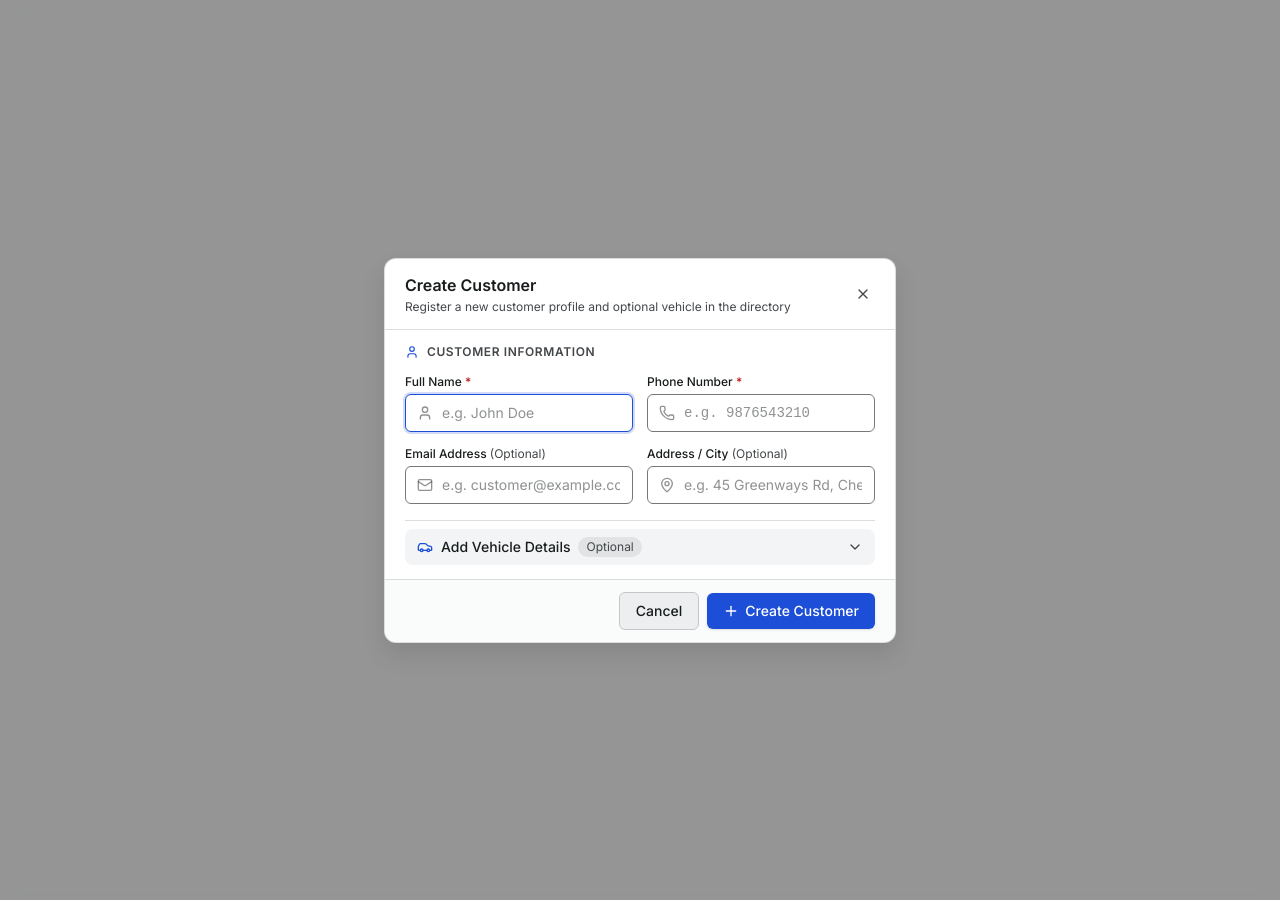
CreateCustomerModal Component › validates customer name and 10-digit phone number
// Submit with empty name
Click the button "Create Customer".
click(791, 610)  # box [707,592,875,628]
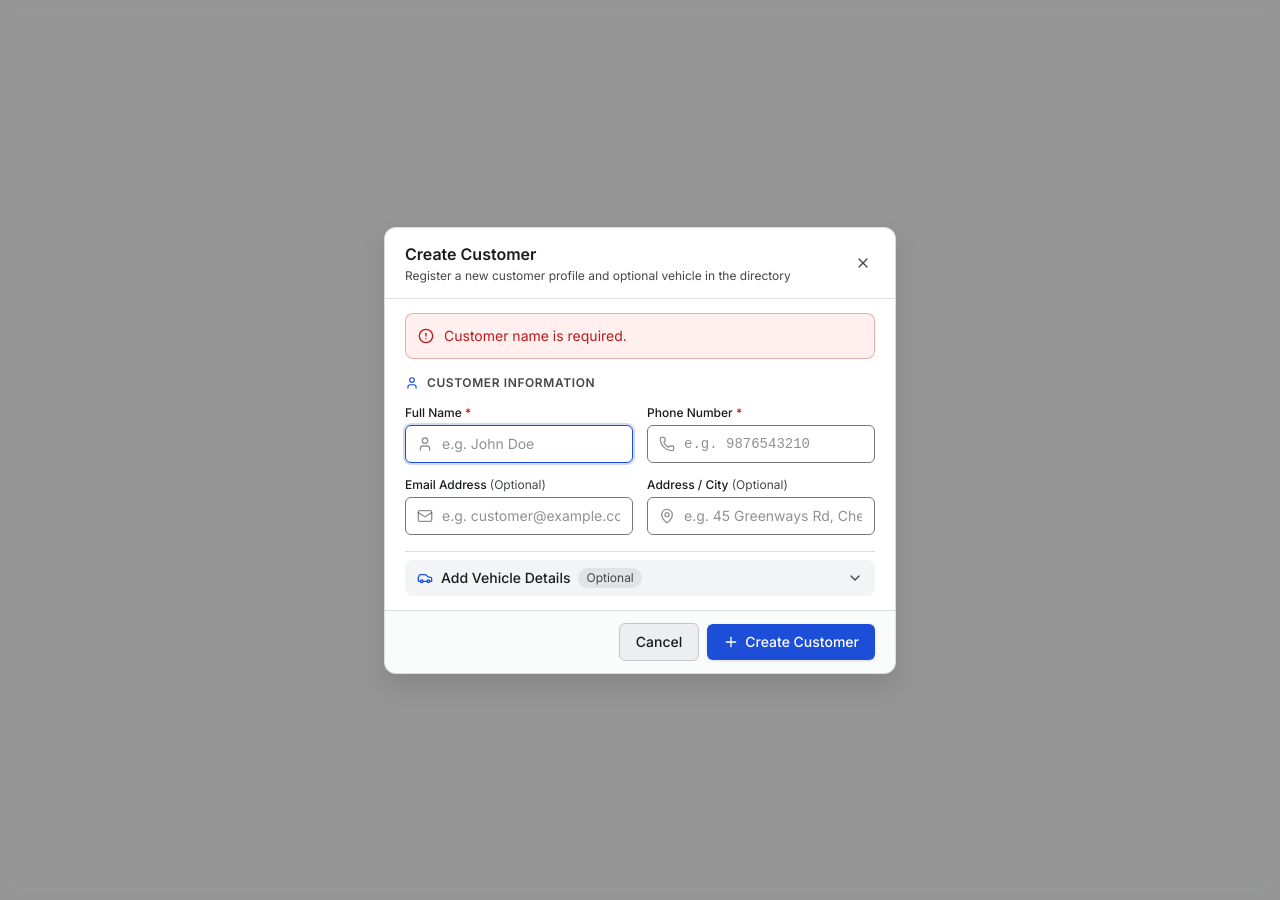
Now the text "Customer name is required." is shown, box [444,326,627,346]
// Submit with short phone number
Type "Jane Doe" into the field with placeholder "e.g. John Doe".
click(519, 444); type("Jane Doe")  # box [405,424,633,462]
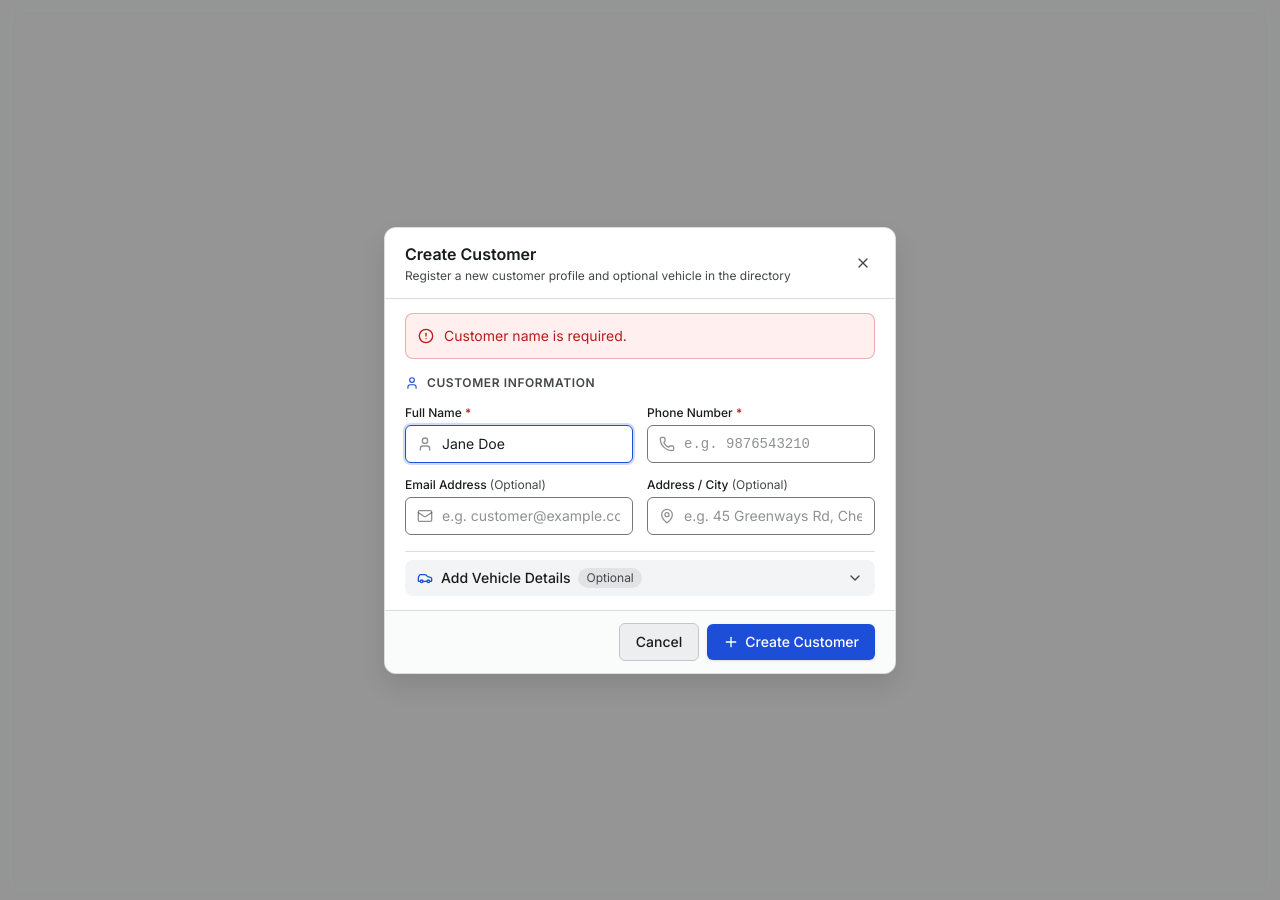
Type "9876" into the field with placeholder "e.g. 9876543210".
click(761, 444); type("9876")  # box [647,424,875,462]
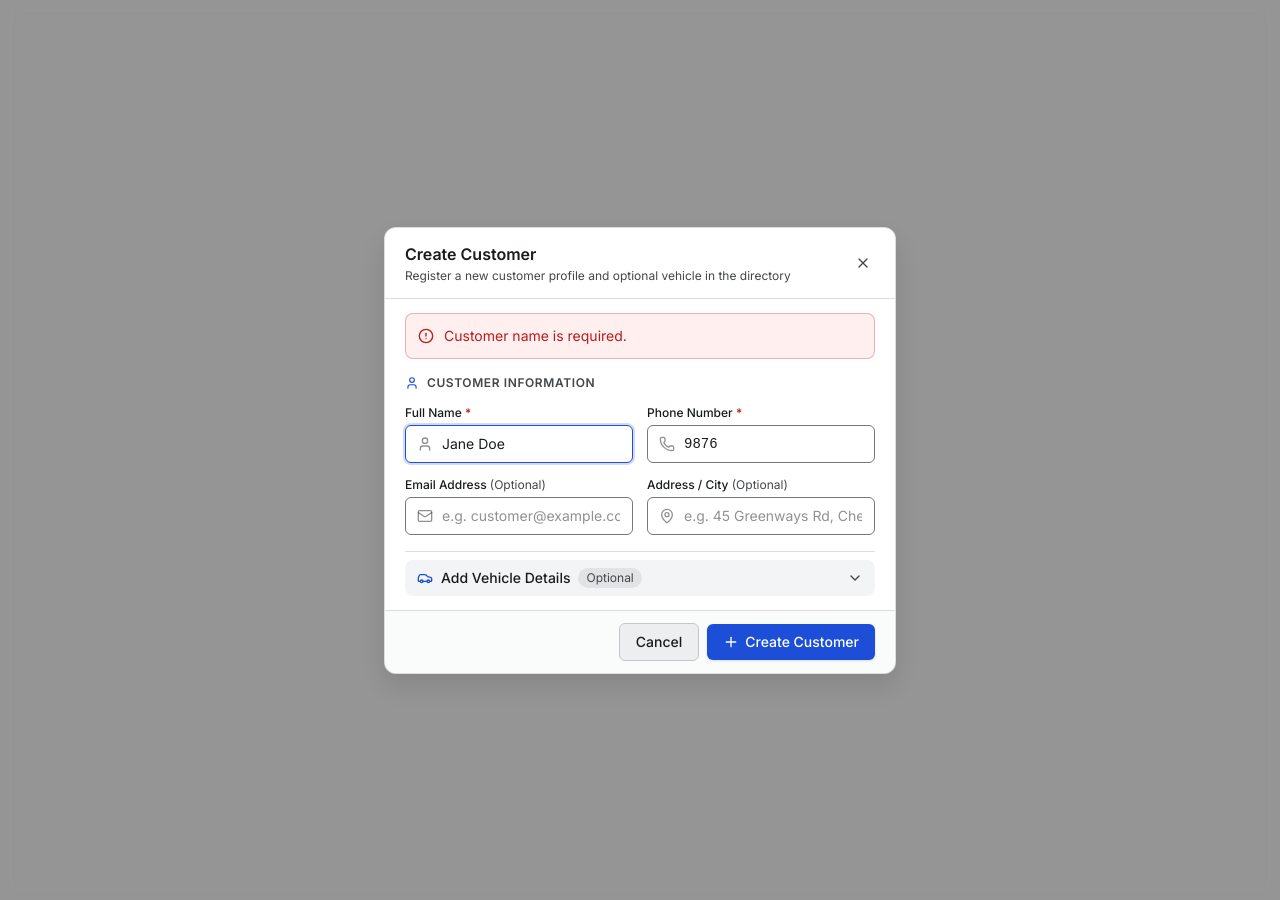
Click the button "Create Customer".
click(791, 642)  # box [707,624,875,660]
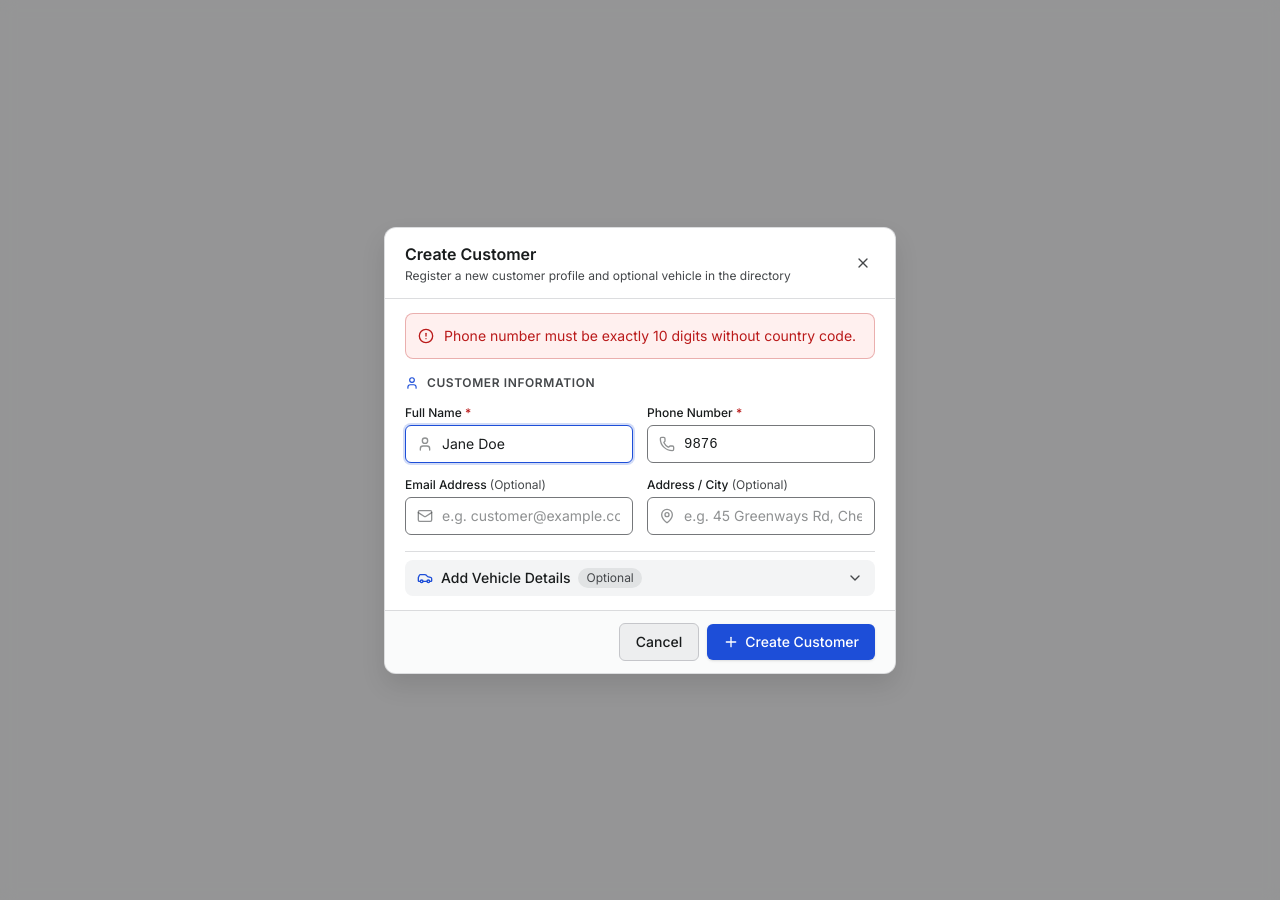
Now the text "Phone number must be exactly 10 digits without country code." is shown, box [444,326,856,346]
